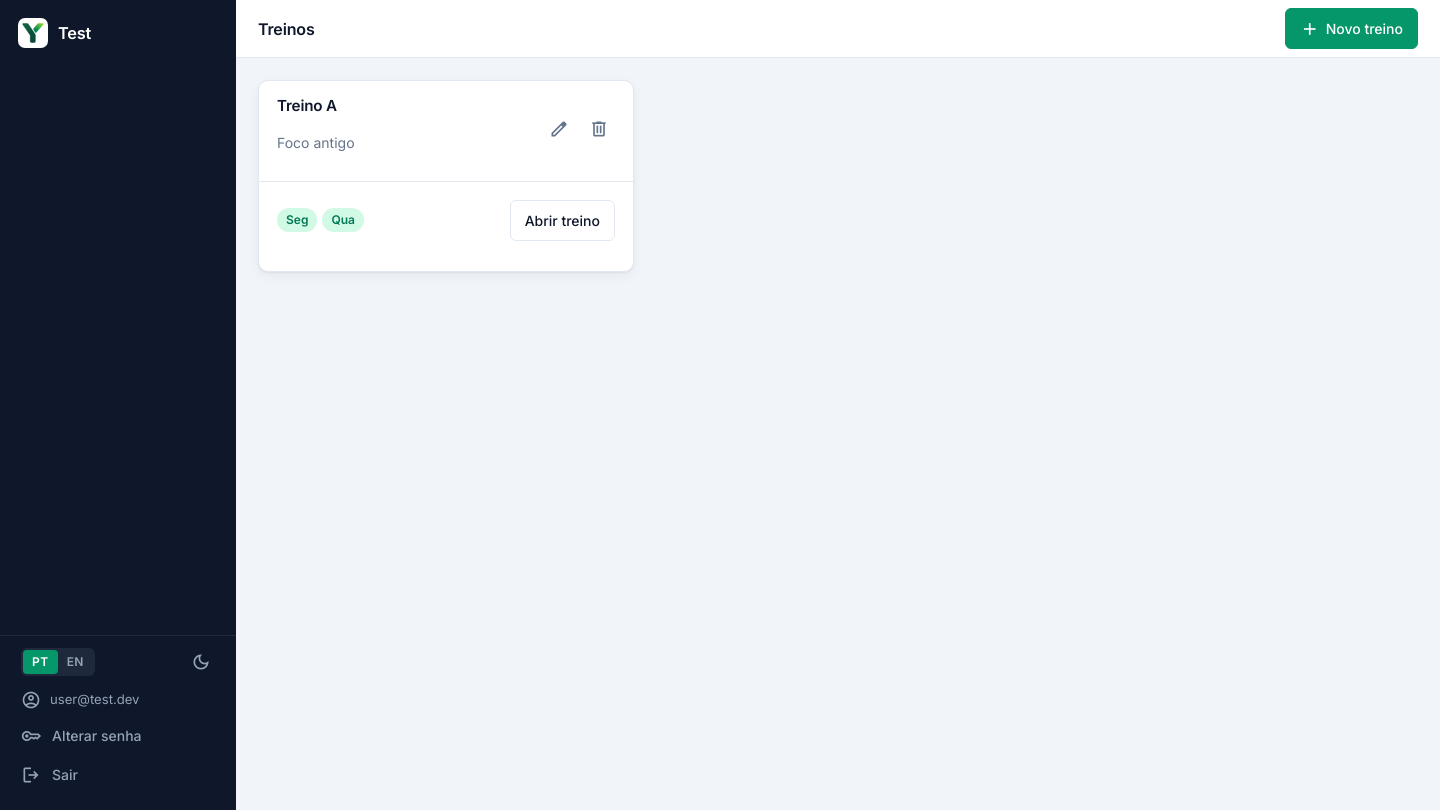
Test: Workouts › preserva o foco salvo quando o catalogo nao esta disponivel
The width and height of the screenshot is (1440, 810).
Click the button titled "Editar" at [559, 131], box x1=543 y1=113 x2=575 y2=148
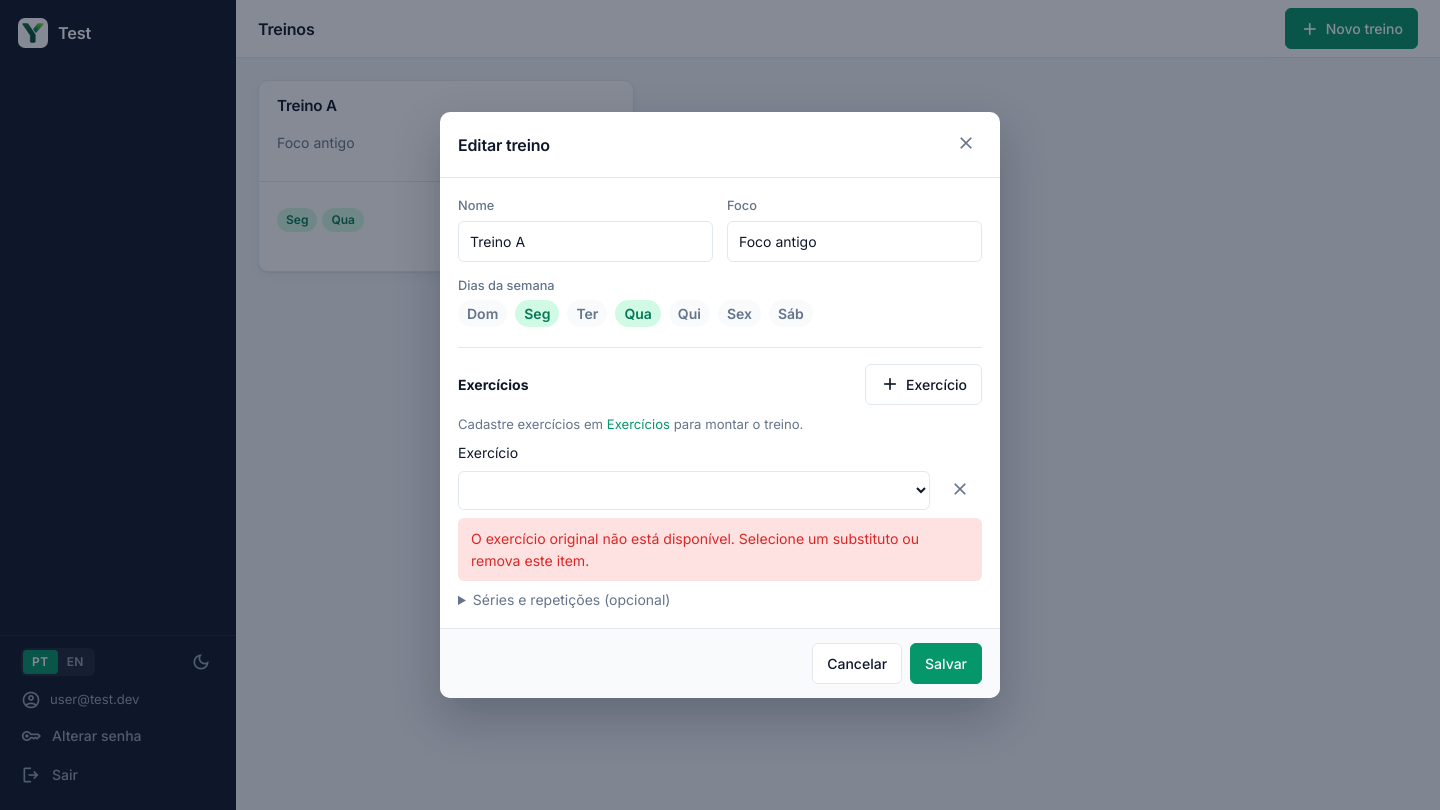
Check: the field with id "focus" holds "Foco antigo", box x1=727 y1=220 x2=982 y2=262
Submit the form, box x1=440 y1=178 x2=1000 y2=698
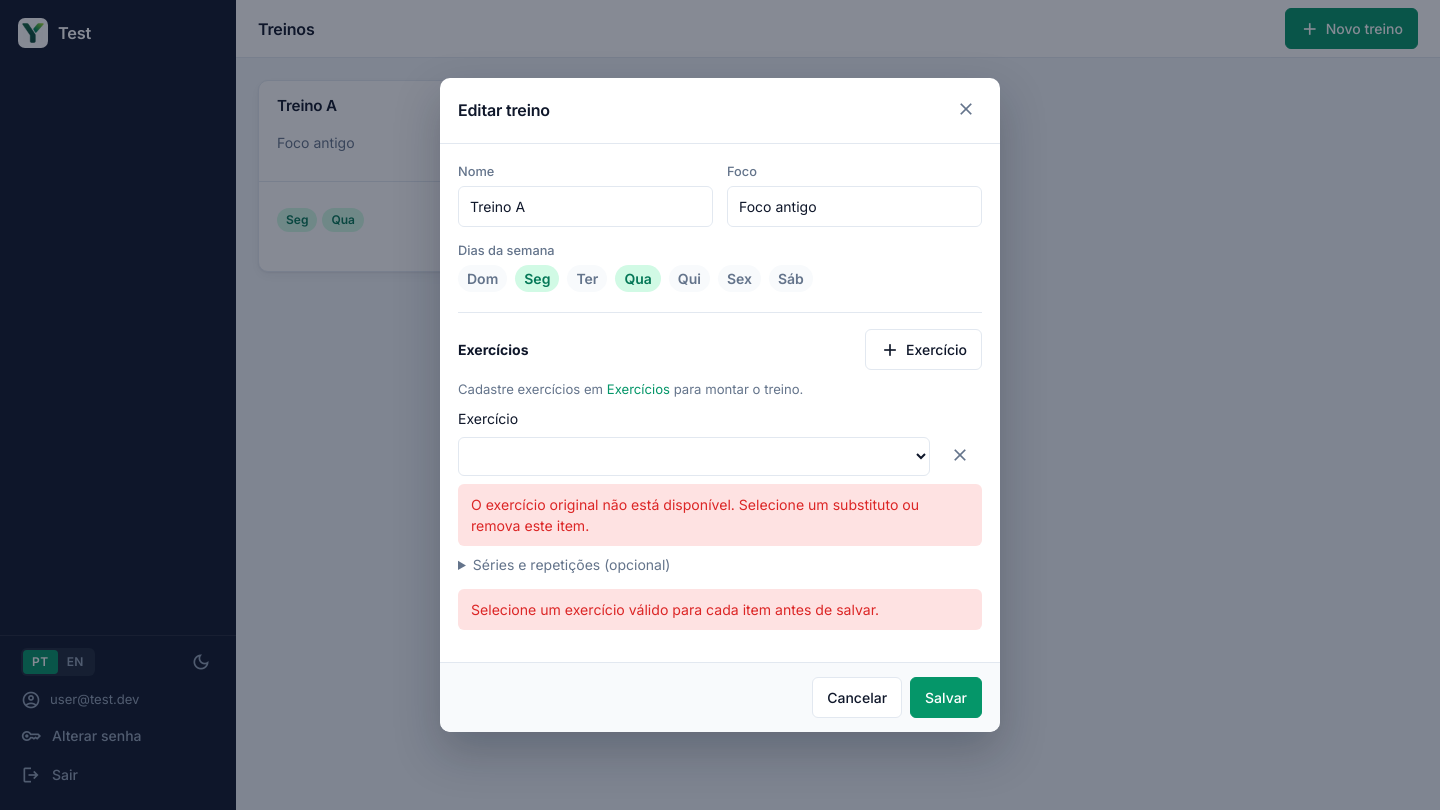
Check: the message "Selecione um exercício válido para cada item antes de salvar." is shown, box x1=458 y1=589 x2=982 y2=630
